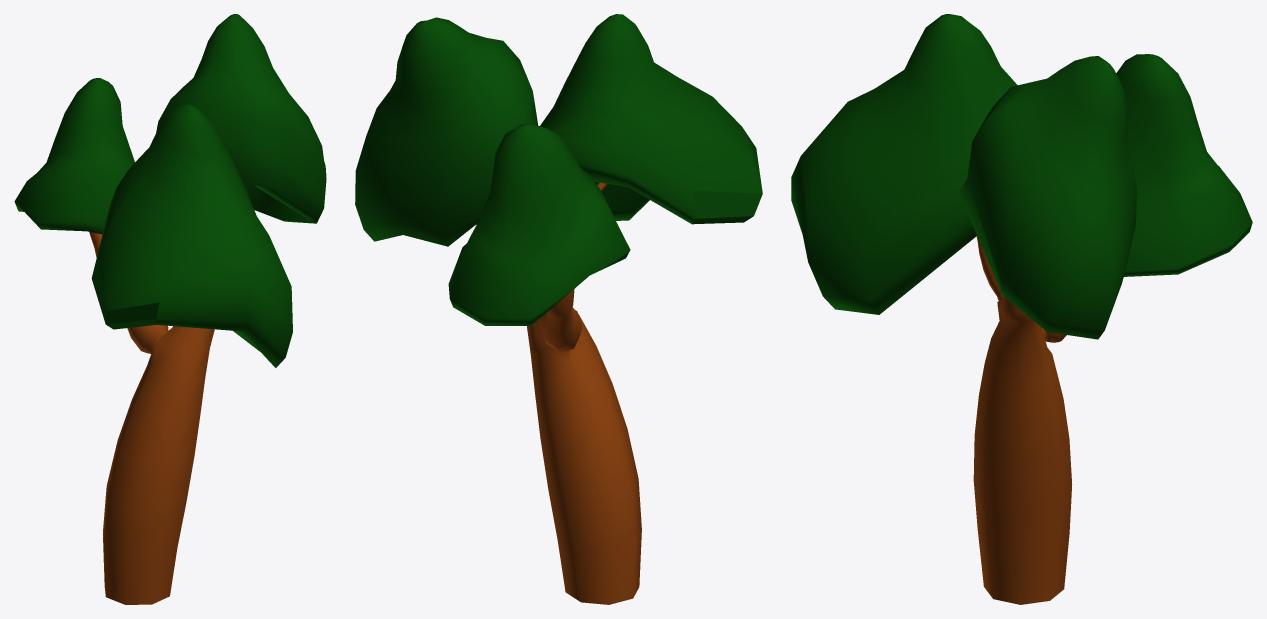
The model's file is Tree_1.fbx.
3 renders of one model, left to right at view 1: azimuth 30°, elevation 25°; view 2: azimuth 150°, elevation 25°; view 3: azimuth 270°, elevation 25°, orthographic. The views are drawn at different scales.
Parts seen in each view (by area): view 1: Tree_1; view 2: Tree_1; view 3: Tree_1.
Part boxes in pixels (box(x1,y1,x2,y2)): Tree_1: box(14, 14, 326, 604); Tree_1: box(355, 14, 762, 604); Tree_1: box(791, 14, 1252, 604).
Size of the model in its own units: 331 by 562 by 390.
